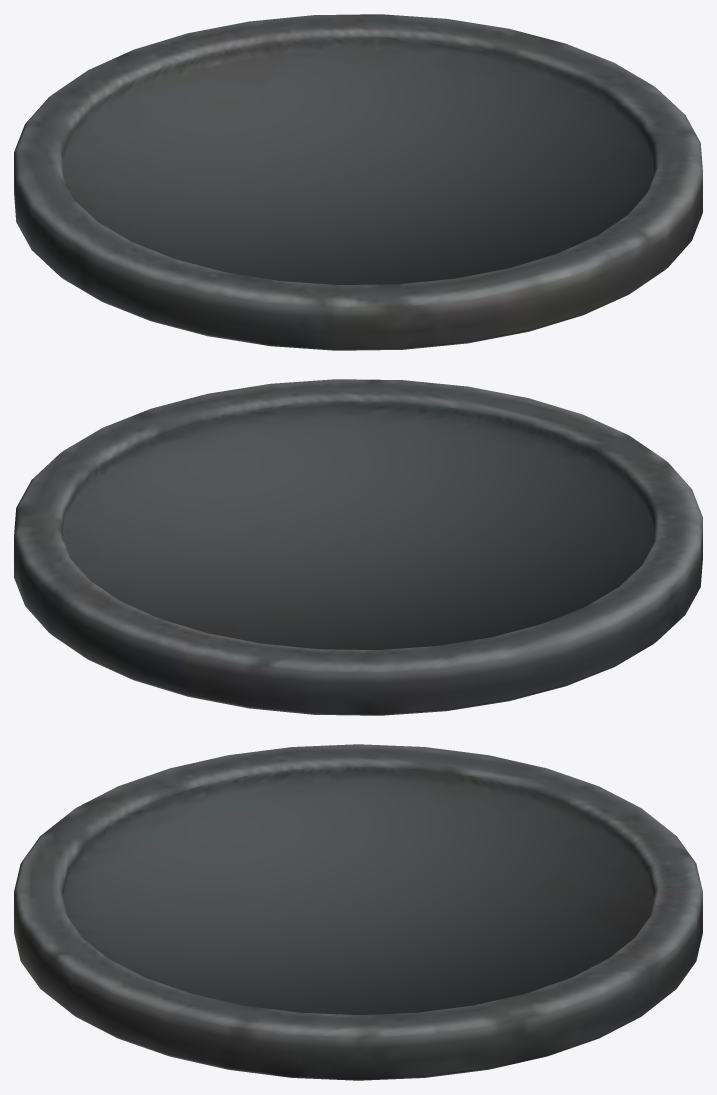
The model's file is disco.glb.
3 views of the same model, one above another, from view 1: azimuth 30°, elevation 25°; view 2: azimuth 150°, elevation 25°; view 3: azimuth 270°, elevation 25° (orthographic).
Parts seen in each view (by area): view 1: defaultMaterial; view 2: defaultMaterial; view 3: defaultMaterial.
Part boxes in pixels (x1=…): defaultMaterial: x1=14, y1=14, x2=702, y2=350; defaultMaterial: x1=14, y1=379, x2=702, y2=715; defaultMaterial: x1=14, y1=744, x2=702, y2=1080.
Bounding box in the file's own units: 7.49 × 0.587 × 7.49.
1 material, 1 textured.
